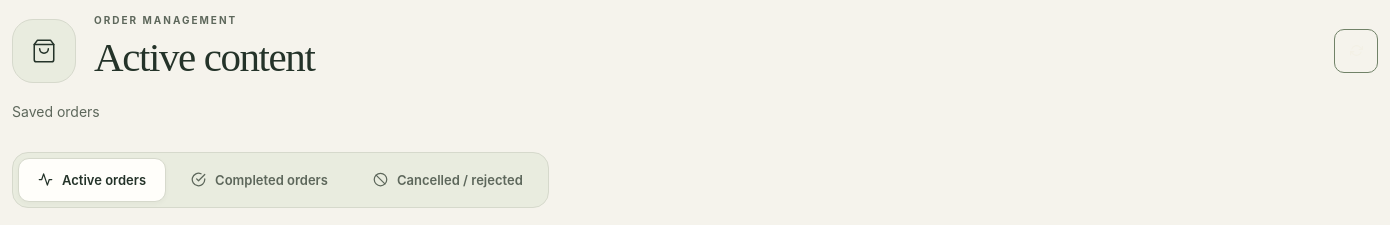
Test: navigates between owner order views with the correct current link
Click the link "Completed orders" at {"x": 260, "y": 180}, box top-left (191, 172), bottom-right (328, 188)
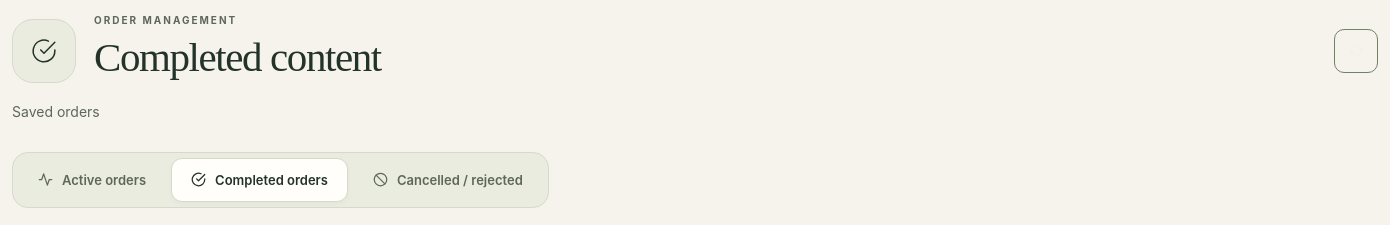
Now the heading "Completed content" is shown, box top-left (94, 35), bottom-right (381, 79)
Click the link "Cancelled / rejected" at {"x": 448, "y": 180}, box top-left (373, 172), bottom-right (523, 188)
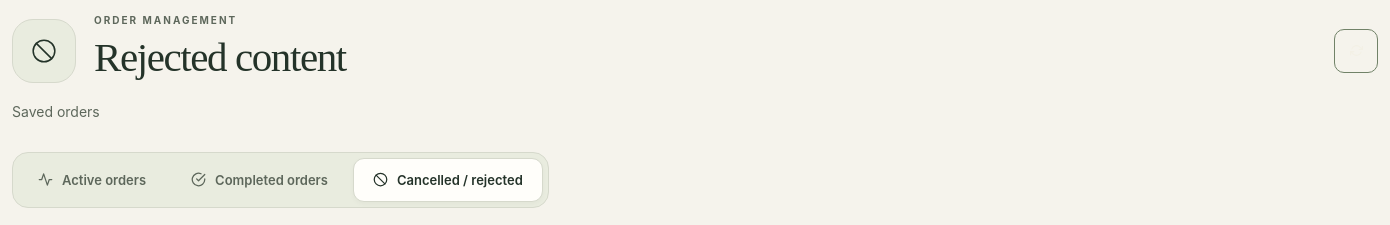
Now the heading "Rejected content" is shown, box top-left (94, 35), bottom-right (346, 79)
